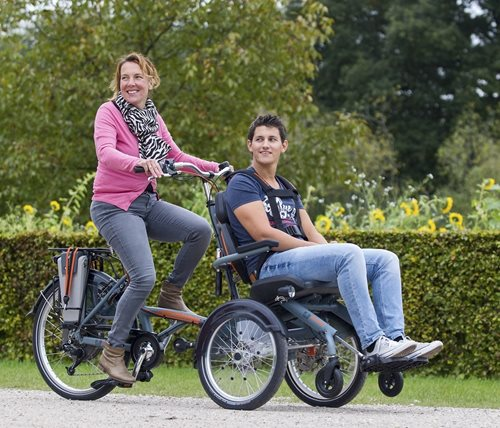person: (81, 45, 214, 316), (223, 104, 365, 296)
wheelchair: (195, 232, 367, 403)
